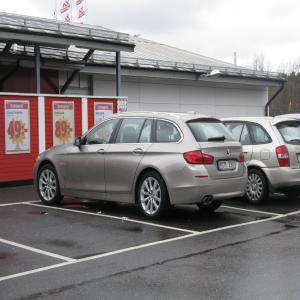Vehicle-registration-plate: (218, 158, 237, 172), (297, 154, 300, 165)
